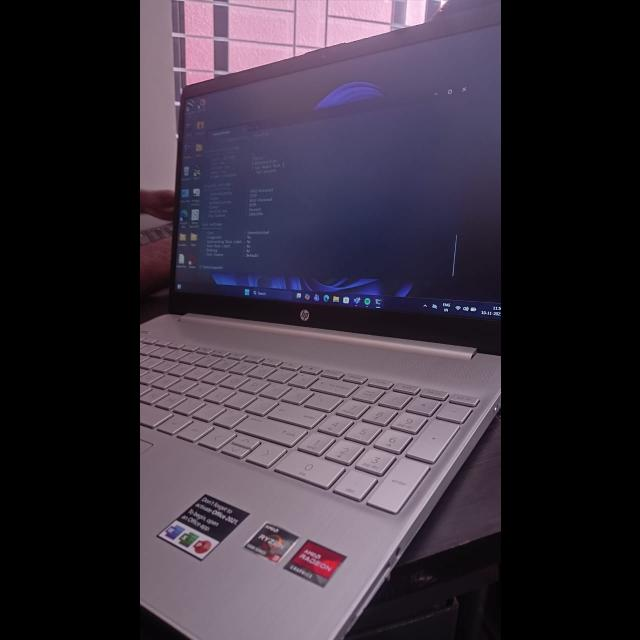laptop: (140, 14, 496, 640)
